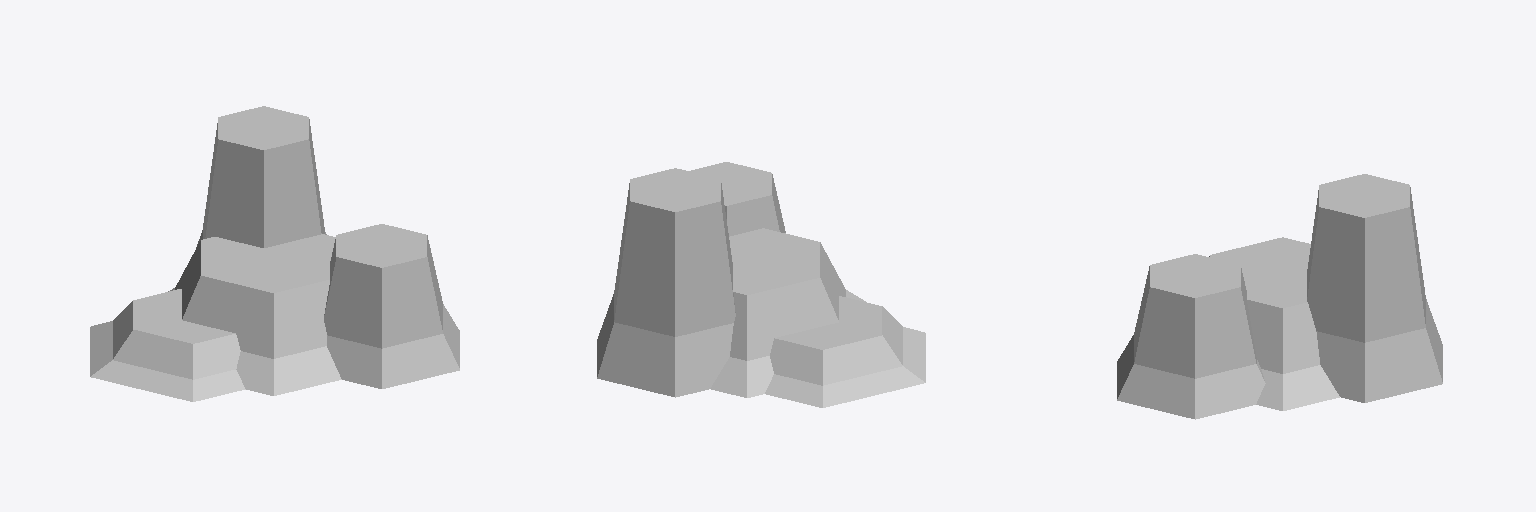
The model's file is rocks.obj.
The picture shows the model from 3 angles: view 1: azimuth 30°, elevation 25°; view 2: azimuth 150°, elevation 25°; view 3: azimuth 270°, elevation 25°; orthographic projection.
Visible parts, largest first — view 1: rocks; view 2: rocks; view 3: rocks.
Boxes of the visible parts, <box> form: rocks: <box>90,106,459,401</box>; rocks: <box>597,162,925,407</box>; rocks: <box>1117,174,1442,419</box>.
Bounding box in the file's own units: 0.9342 × 0.4657 × 0.8148.